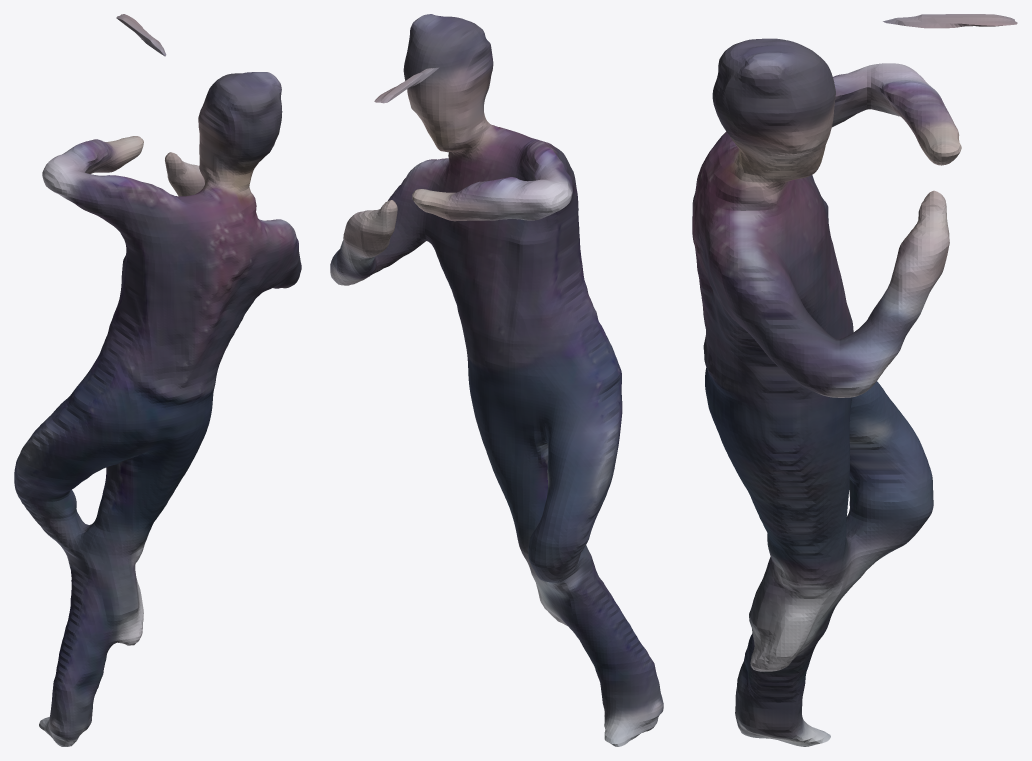
Rendered from 0005_tex.glb.
3 renders of one model, left to right at view 1: azimuth 30°, elevation 25°; view 2: azimuth 150°, elevation 25°; view 3: azimuth 270°, elevation 25°, orthographic. The views are drawn at different scales.
Visible parts, largest first — view 1: 0005_tex.obj; view 2: 0005_tex.obj; view 3: 0005_tex.obj.
Part boxes in pixels (box(x1,y1,x2,y2)): 0005_tex.obj: box(14, 14, 301, 746); 0005_tex.obj: box(330, 14, 663, 746); 0005_tex.obj: box(692, 14, 1017, 746).
Size of the model in its own units: 0.4095 by 0.9014 by 0.3244.
